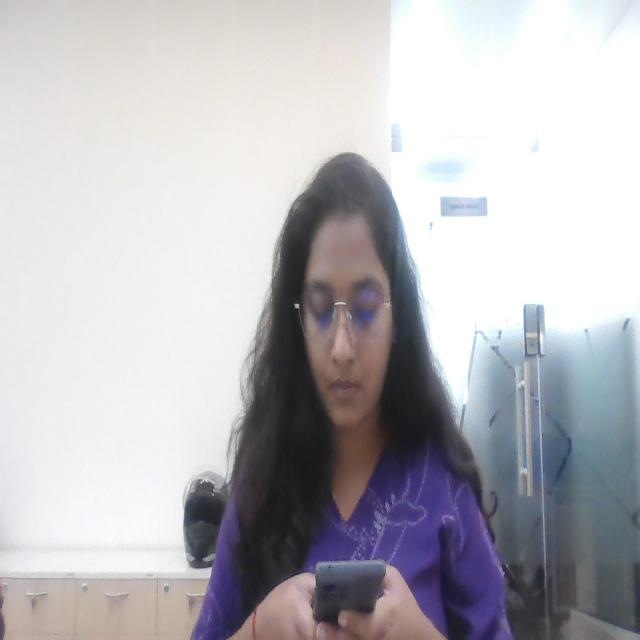phone: (314, 552, 387, 618)
